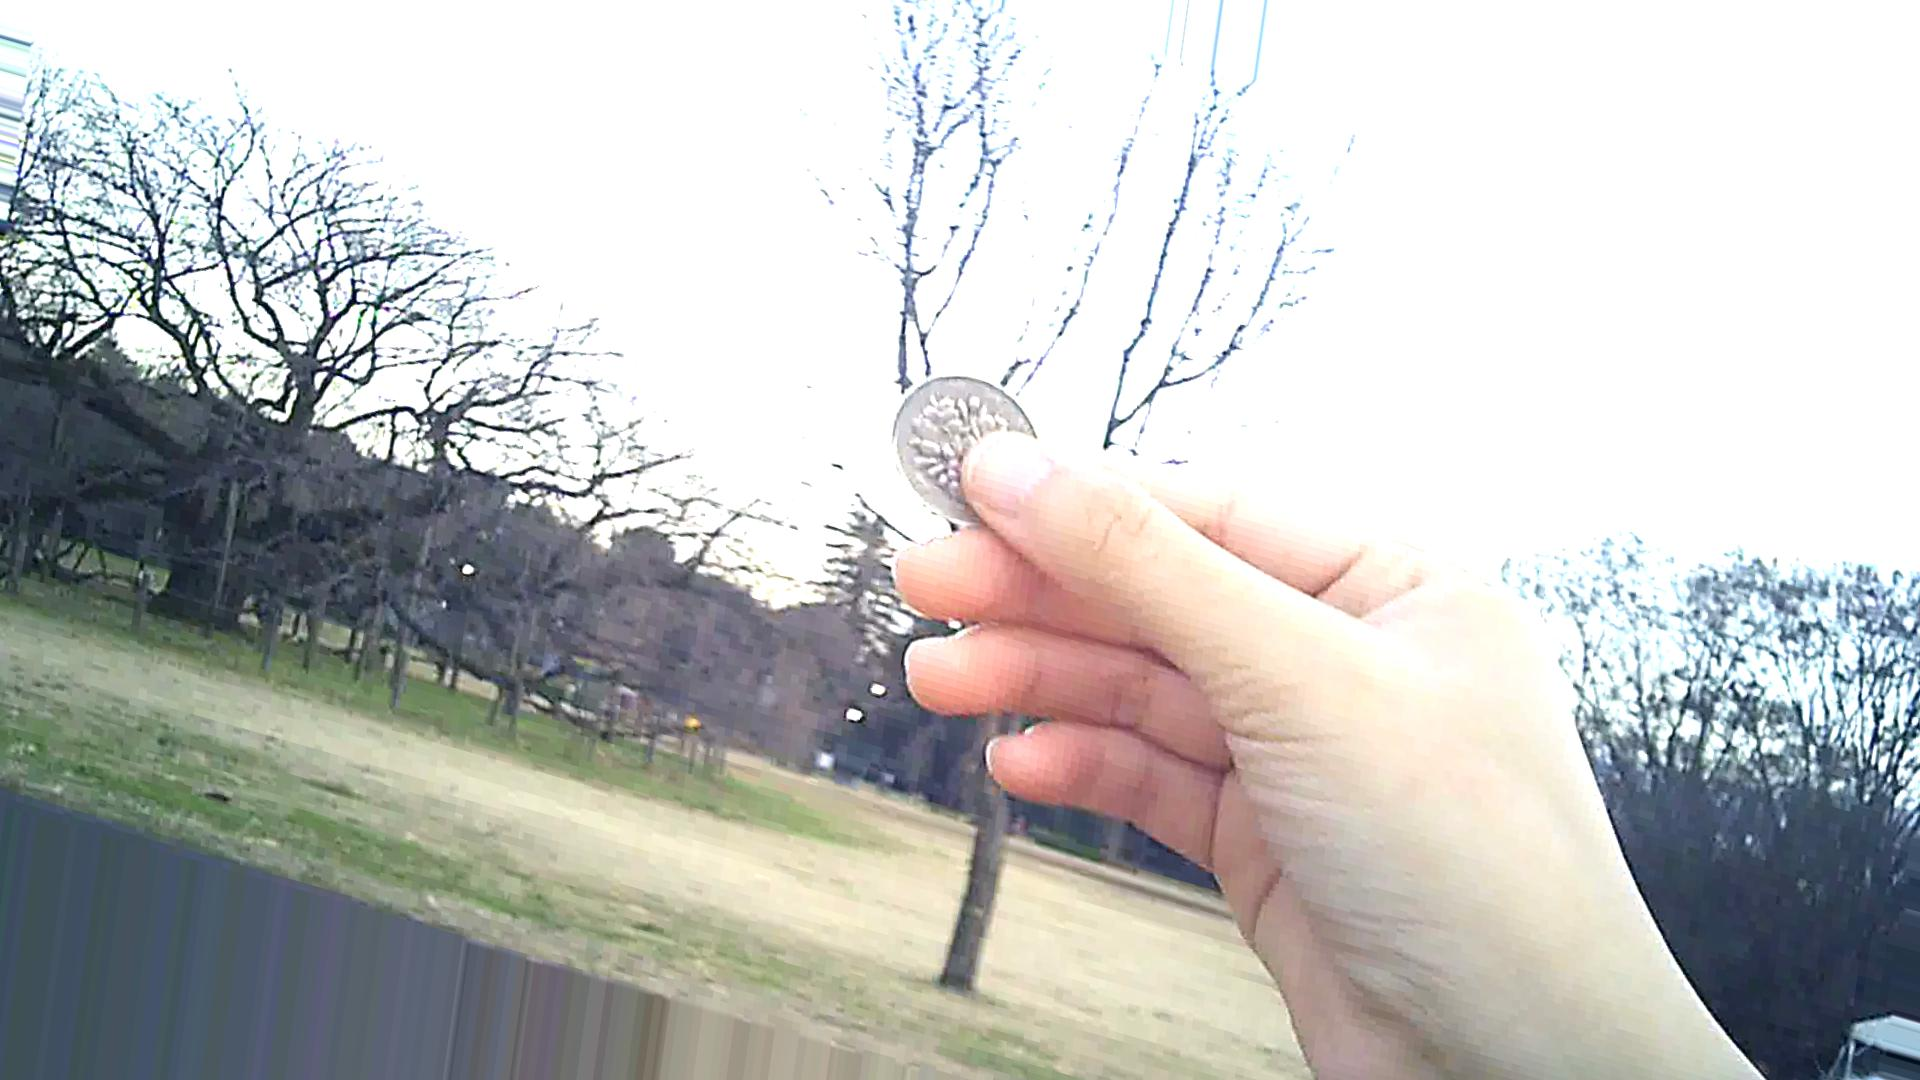100 Yen: (891, 371, 1035, 527)
